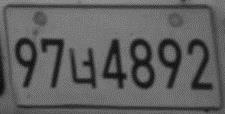2: (187, 38, 213, 90)
4: (100, 37, 128, 89)
7: (40, 37, 64, 88)
8: (129, 38, 154, 89)
9: (13, 37, 37, 89), (158, 38, 182, 90)
너: (68, 46, 97, 89)
